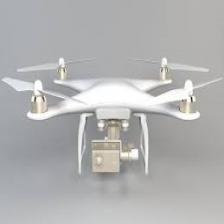drone: (1, 49, 224, 179)
